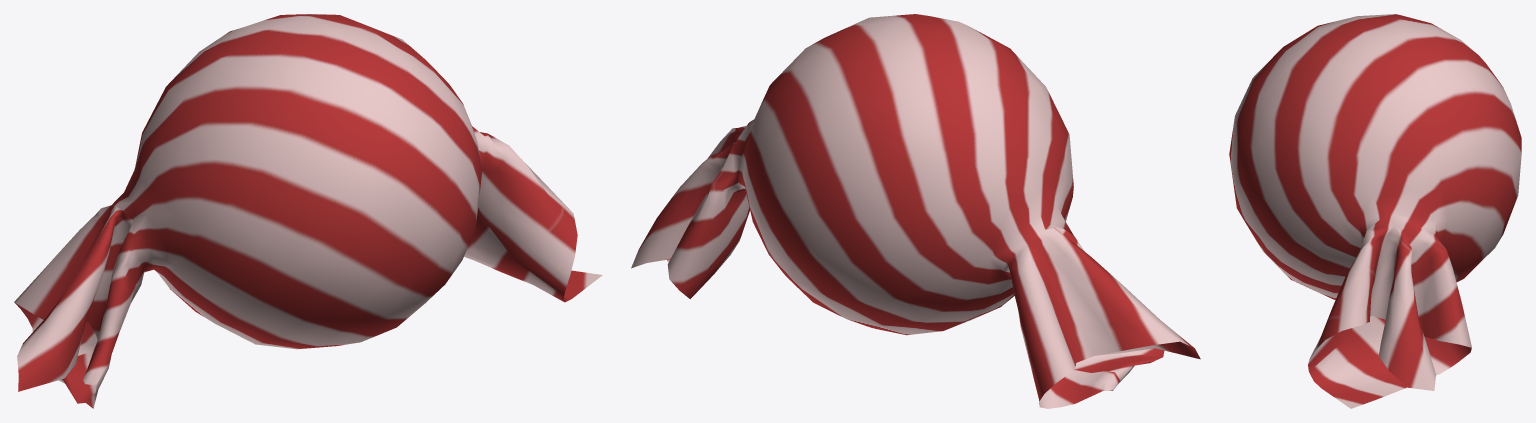
The model's file is Glowing983Candy.fbx.
The picture shows the model from 3 angles, left to right: view 1: azimuth 30°, elevation 25°; view 2: azimuth 150°, elevation 25°; view 3: azimuth 270°, elevation 25°; orthographic projection. The views are drawn at different scales.
Parts seen in each view (by area): view 1: candy_wrapper_low; view 2: candy_wrapper_low; view 3: candy_wrapper_low.
Part boxes in pixels (box(x1,y1,x2,y2)): candy_wrapper_low: box(14, 14, 602, 408); candy_wrapper_low: box(631, 14, 1200, 408); candy_wrapper_low: box(1229, 14, 1521, 408).
Bounding box in the file's own units: 0.1481 × 0.074 × 0.0748.
